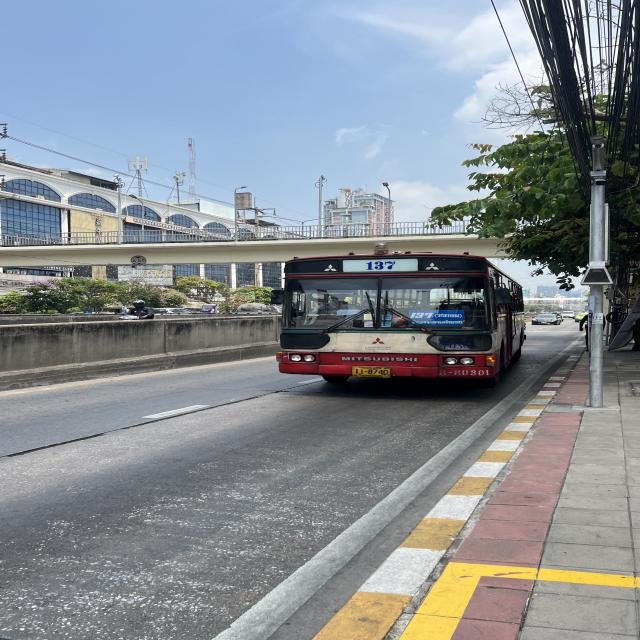BMTA-bus: (274, 246, 531, 387)
Bus Line Number: (361, 258, 398, 272)
Bus Side Number: (437, 368, 490, 377)
Destination Sign: (409, 310, 465, 326)
